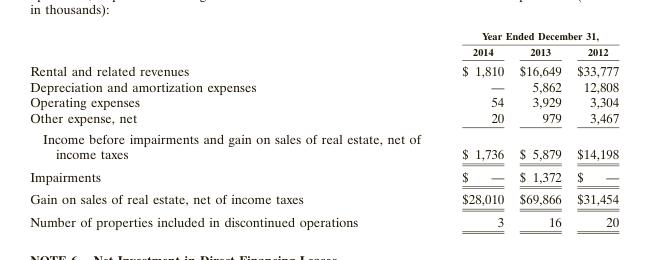table: (29, 29, 618, 229)
table column: (29, 29, 440, 229), (440, 29, 511, 229), (511, 29, 568, 229), (568, 29, 618, 229)
table column header: (29, 29, 618, 59)
table row: (29, 127, 618, 164), (29, 164, 618, 187), (29, 187, 618, 209), (29, 209, 618, 229), (29, 59, 618, 78), (29, 109, 618, 127), (29, 43, 618, 59), (29, 78, 618, 94), (29, 94, 618, 109), (29, 29, 618, 43)
table spanning cell: (440, 29, 618, 43)
